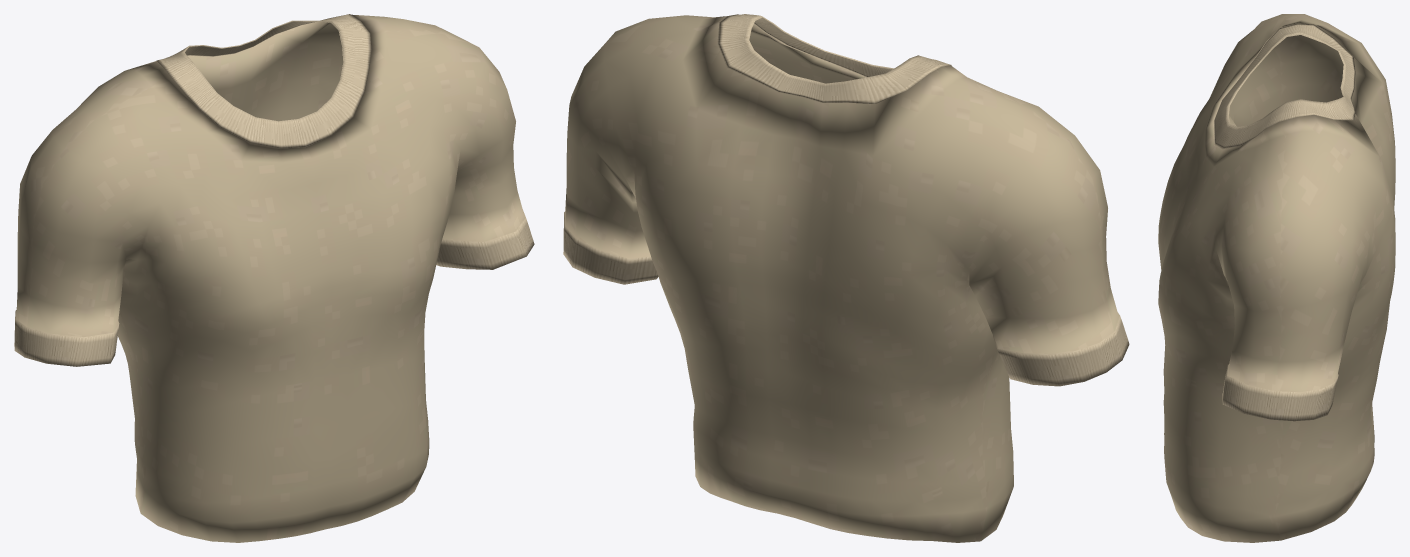
Rendered from tee-beige.glb.
The picture shows the model from 3 angles, left to right: view 1: azimuth 30°, elevation 25°; view 2: azimuth 150°, elevation 25°; view 3: azimuth 270°, elevation 25°; orthographic projection. The views are drawn at different scales.
Visible parts, largest first — view 1: tee-black; view 2: tee-black; view 3: tee-black.
Boxes of the visible parts, x1,y1,x2,y2 form: tee-black: (14,14,534,542); tee-black: (563,14,1129,542); tee-black: (1158,14,1395,542).
Size of the model in its own units: 0.5916 by 0.4977 by 0.2521.
Materials: 1 (1 with a texture image).
